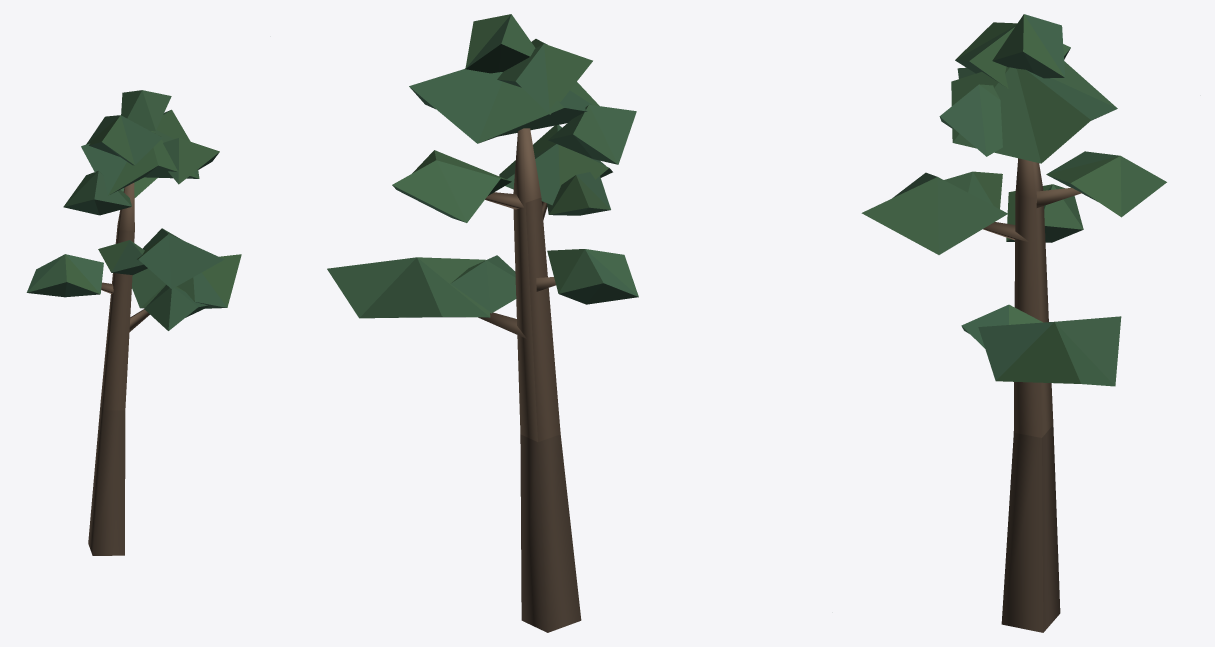
File: FarPine2_leaf.glb
3 renders of one model, left to right at view 1: azimuth 30°, elevation 25°; view 2: azimuth 150°, elevation 25°; view 3: azimuth 270°, elevation 25°, orthographic. The views are drawn at different scales.
Parts seen in each view (by area): view 1: FarPine2_leaf; view 2: FarPine2_leaf; view 3: FarPine2_leaf.
Part boxes in pixels (box(x1,y1,x2,y2)): FarPine2_leaf: box(26, 90, 241, 555); FarPine2_leaf: box(327, 14, 638, 632); FarPine2_leaf: box(861, 14, 1166, 632).
Bounding box in the file's own units: 14.62 × 20.68 × 10.11.
